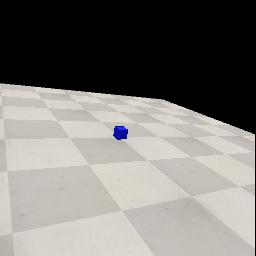box: (113, 126, 128, 140)
